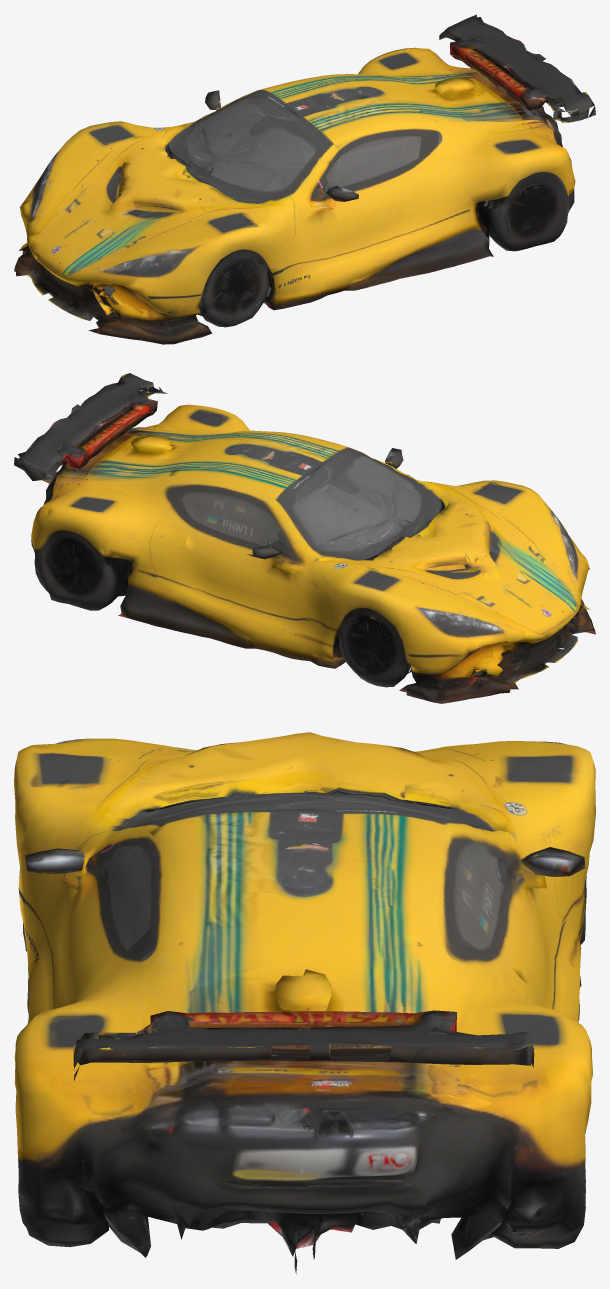
The model's file is 15ff98a2-9794-4677-bfdb-2fa5e7243a46.glb.
3 views of the same model, one above another, from view 1: azimuth 30°, elevation 25°; view 2: azimuth 150°, elevation 25°; view 3: azimuth 270°, elevation 25° (orthographic). The views are drawn at different scales.
Size of the model in its own units: 2 by 0.5373 by 1.05.
Materials: 1 (1 with a texture image).
